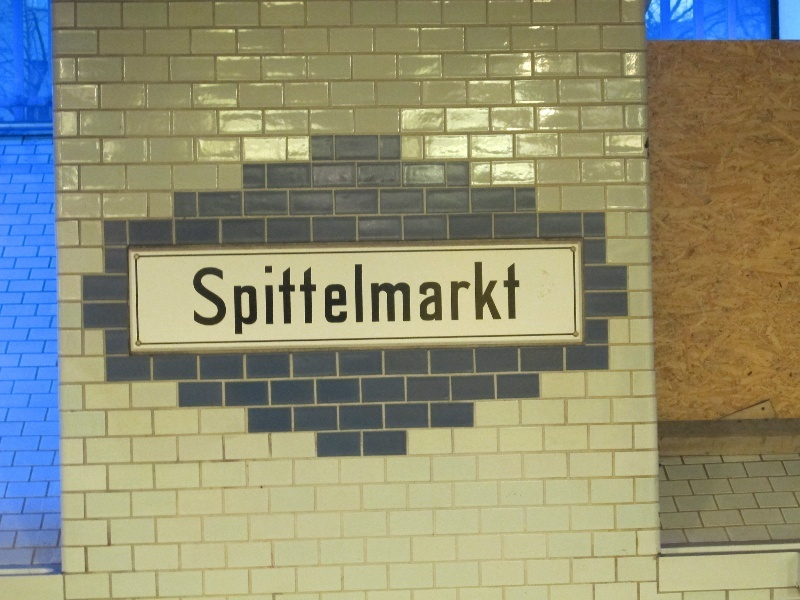text: (193, 256, 208, 338), (209, 256, 224, 338), (225, 256, 240, 338), (241, 256, 256, 338), (257, 256, 272, 338), (273, 256, 288, 338), (289, 256, 304, 338), (305, 256, 320, 338), (321, 256, 336, 338), (337, 256, 352, 338), (353, 256, 368, 338), (369, 256, 384, 338), (385, 256, 400, 338), (401, 256, 416, 338), (417, 256, 432, 338), (433, 256, 448, 338), (449, 256, 464, 338), (465, 256, 480, 338), (481, 256, 496, 338), (497, 256, 512, 338), (513, 256, 522, 338), (191, 256, 192, 338)
